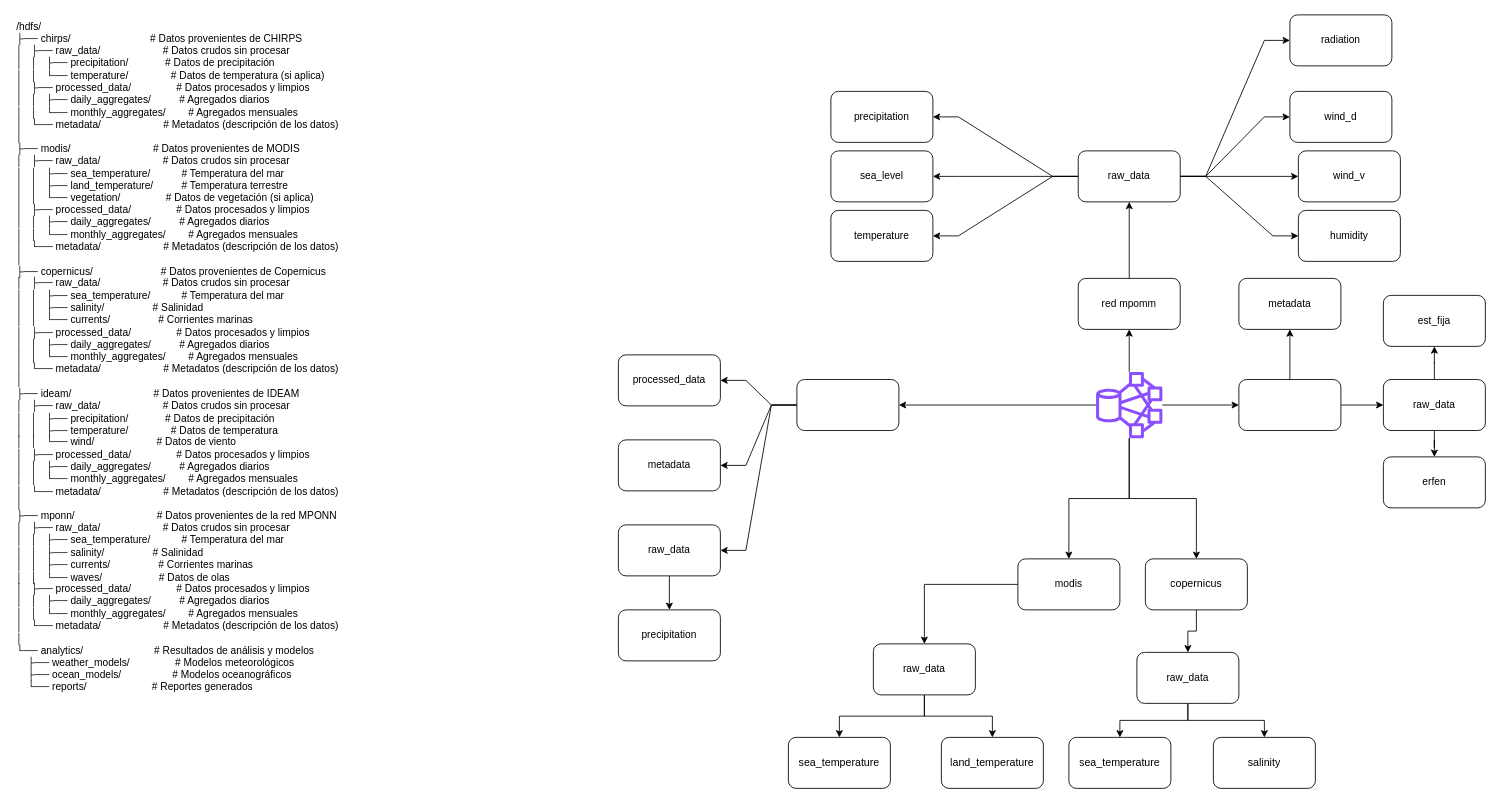
Some shapes in this 1500 by 803 pixel diagram are drawn without their labels. Each missing label, with the centre of its shape:
"chirps" belongs at (x=847, y=405).
"oceanographic_data" belongs at (x=1289, y=405).
